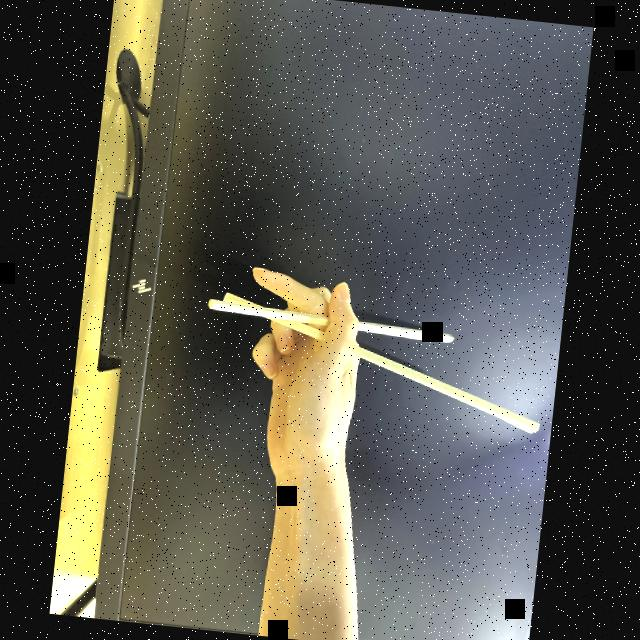stick: (200, 270, 548, 430)
